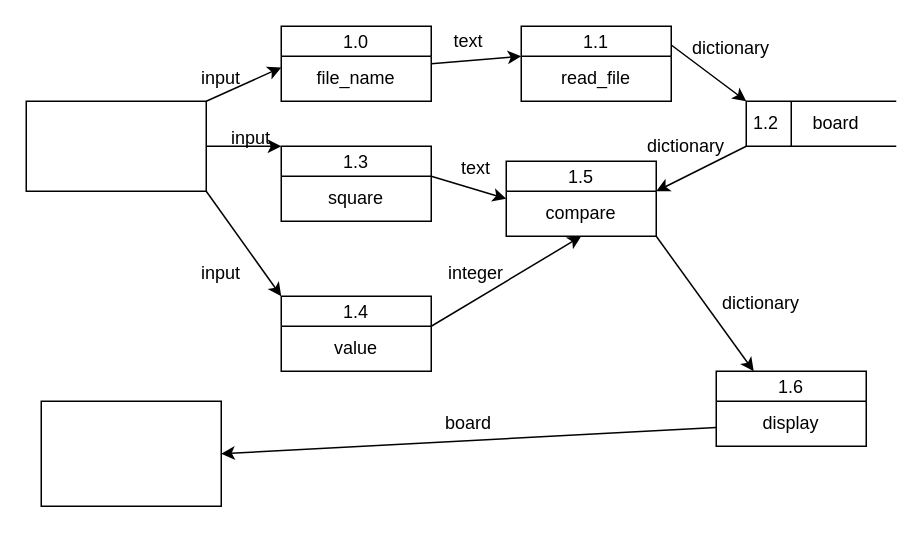
The diagram is 923 pixels wide and 533 high, and some of its shapes have lost their labels. Here are the shapes that lost their labels. From the top down, the centre of each, then its label:
the point at 115,145: New Player
the point at 130,453: Return User
